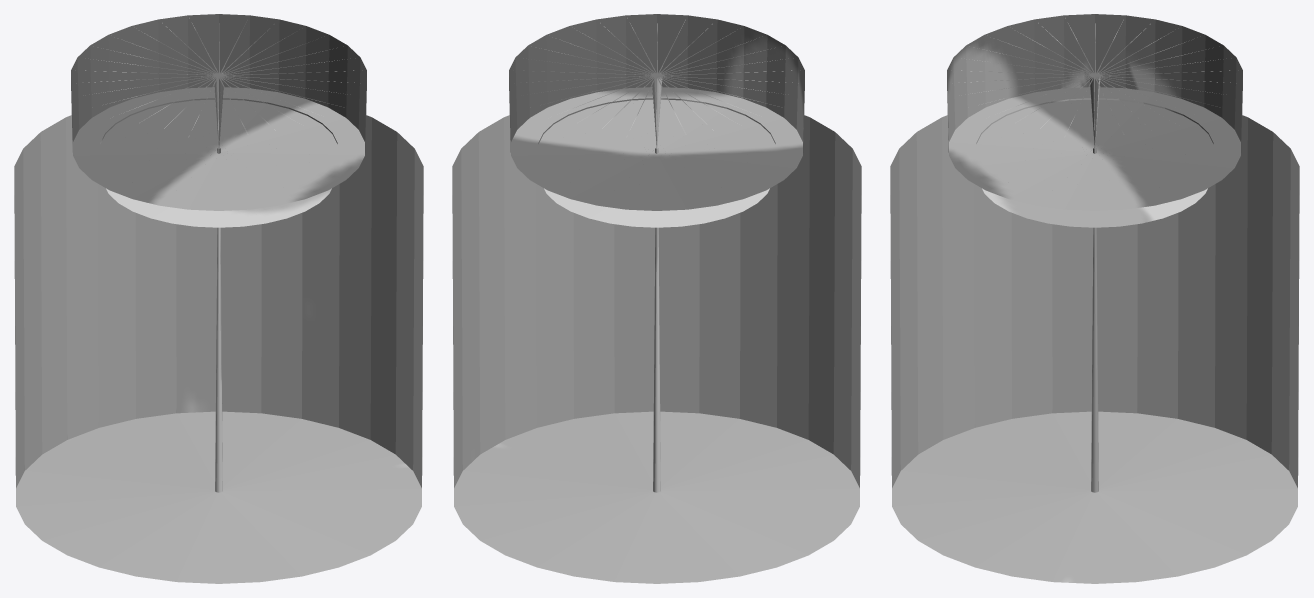
3 views of the same model, side by side, from view 1: azimuth 30°, elevation 25°; view 2: azimuth 150°, elevation 25°; view 3: azimuth 270°, elevation 25° (orthographic).
Visible parts, largest first — view 1: algeomath (1); view 2: algeomath (1); view 3: algeomath (1).
Part boxes in pixels (left/top/right/bottom): algeomath (1): left=14, top=14, right=423, bottom=583; algeomath (1): left=452, top=14, right=861, bottom=583; algeomath (1): left=890, top=14, right=1299, bottom=583.
Size of the model in its own units: 0.2651 by 0.3 by 0.2636.
1 material, 1 textured.
